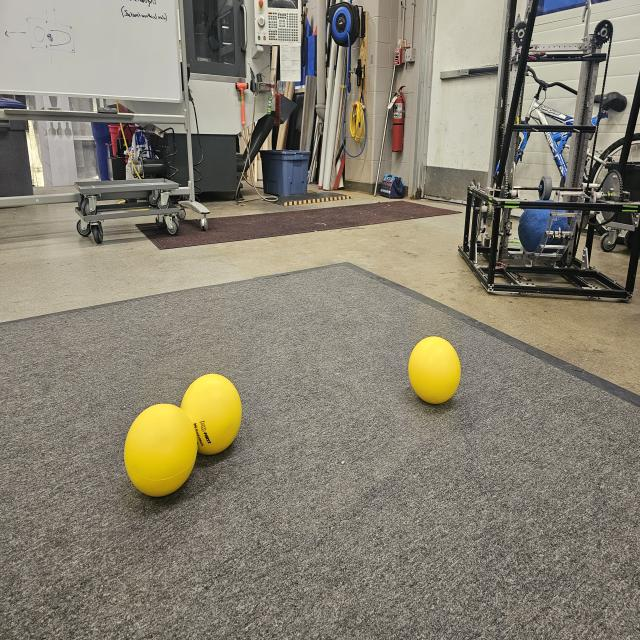Fuel: (125, 404, 198, 497), (182, 374, 242, 453), (408, 338, 461, 406)
